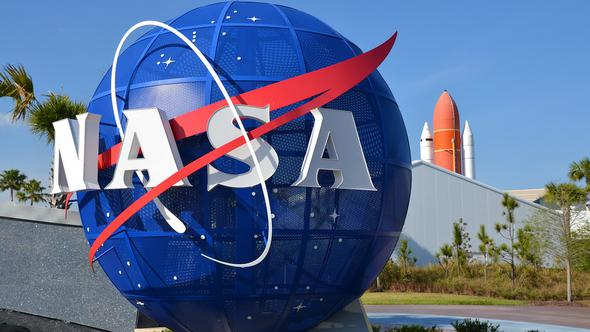NASA: (24, 1, 416, 332)
